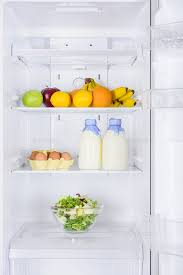milk: (104, 108, 129, 172), (78, 114, 103, 171), (114, 78, 136, 110)
